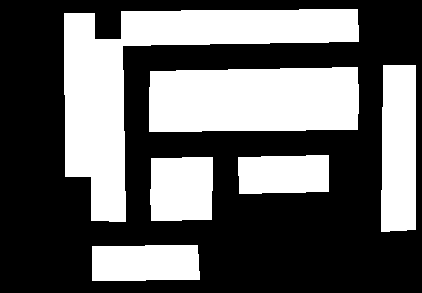parkingspot: (121, 9, 358, 45), (149, 67, 358, 103), (149, 98, 358, 131), (91, 39, 125, 221), (381, 65, 415, 231), (64, 13, 94, 176), (92, 245, 199, 280), (238, 155, 328, 193), (151, 157, 212, 191), (150, 186, 211, 220)
